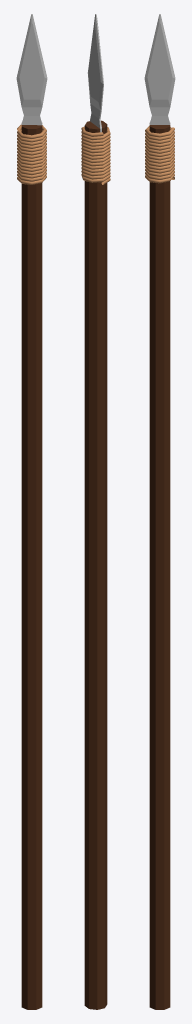
The model's file is Spear.fbx.
3 views of the same model, side by side, from view 1: azimuth 90°, elevation 25°; view 2: azimuth 210°, elevation 25°; view 3: azimuth 270°, elevation 25° (orthographic).
Visible parts, largest first — view 1: SpearStick, SpearTip, SpearRope; view 2: SpearStick, SpearRope, SpearTip; view 3: SpearStick, SpearTip, SpearRope.
Boxes of the visible parts, <box> form: SpearStick: <box>21,125,42,1009</box>; SpearTip: <box>16,14,47,125</box>; SpearRope: <box>17,124,46,184</box>; SpearStick: <box>84,120,107,1009</box>; SpearRope: <box>81,126,110,184</box>; SpearTip: <box>87,14,103,132</box>; SpearStick: <box>149,125,170,1009</box>; SpearTip: <box>144,14,175,124</box>; SpearRope: <box>145,126,174,183</box>.
Size of the model in its own units: 4.18 by 151 by 4.27.
